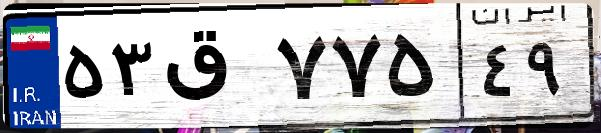3: (110, 28, 158, 98)
4: (475, 38, 525, 113)
5: (385, 28, 445, 110), (57, 26, 110, 100)
7: (270, 28, 330, 110), (330, 28, 385, 110)
9: (525, 38, 570, 115)
ق: (158, 20, 270, 120)
